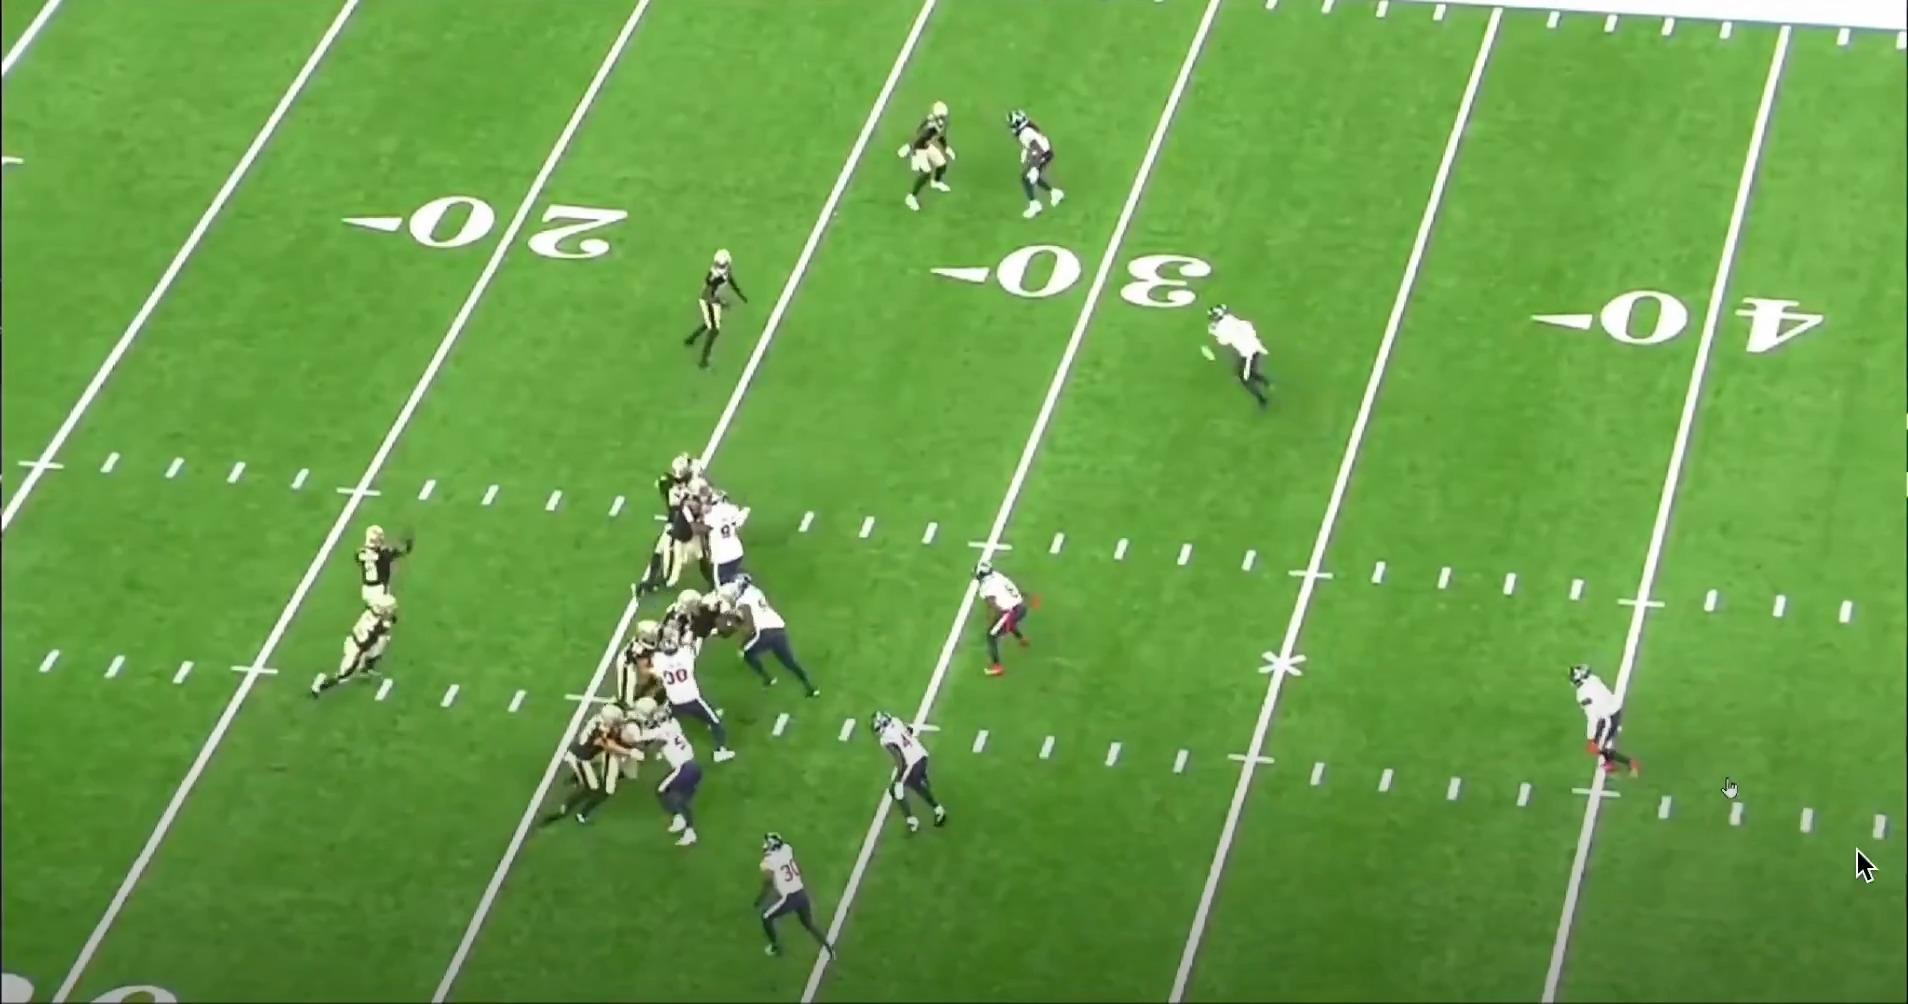player: (720, 578, 825, 705), (651, 633, 747, 762), (755, 830, 847, 963), (623, 478, 715, 600), (646, 707, 722, 852), (875, 709, 958, 839), (1564, 664, 1647, 792), (547, 697, 625, 829), (320, 587, 409, 698), (691, 245, 759, 376), (592, 693, 664, 814), (1199, 302, 1274, 414), (970, 560, 1037, 684), (894, 99, 961, 218), (1005, 104, 1069, 219), (351, 524, 413, 617), (608, 616, 666, 706), (701, 484, 750, 588), (654, 587, 706, 649), (652, 456, 695, 527), (698, 582, 742, 636), (674, 446, 704, 480)
